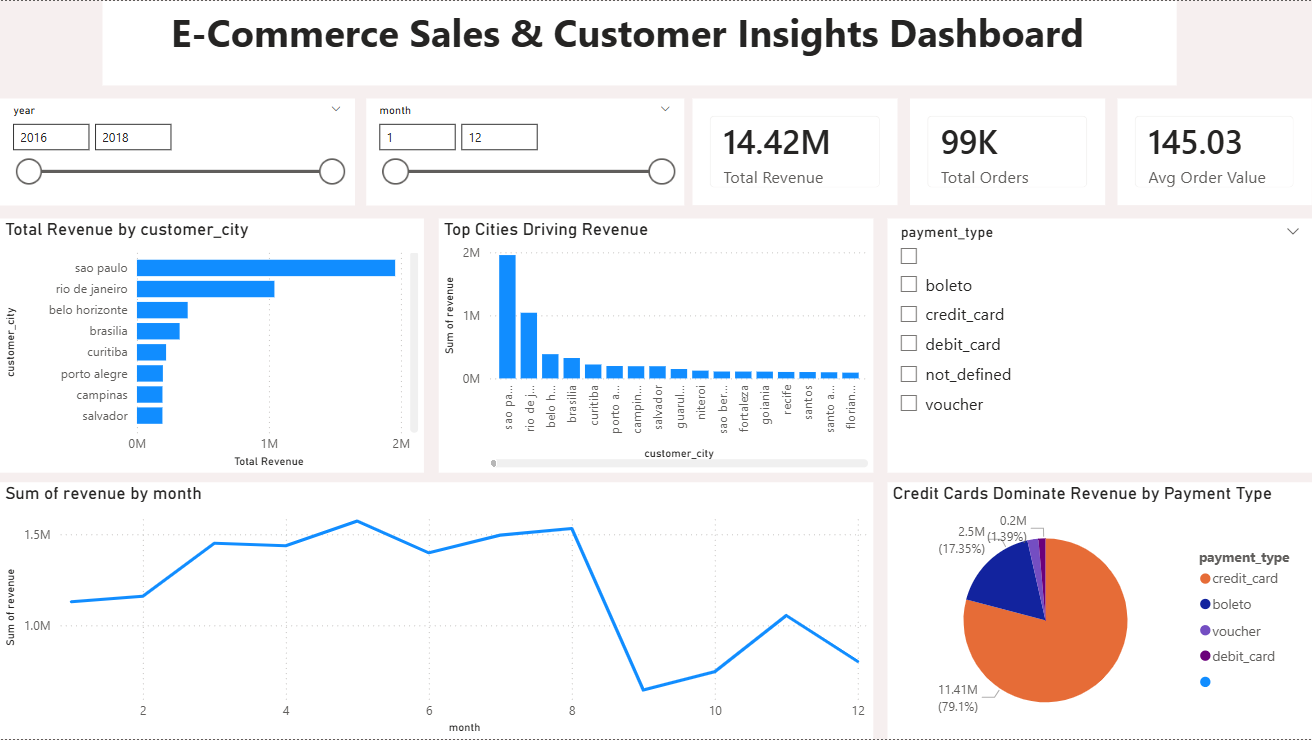

The dashboard page shown, as its layout file describes it:
{"tool":"powerbi","page":{"name":"Page 1","canvas":[1280,720],"ordinal":0},"visuals":[{"type":"cardVisual","fields":{"Data":["final_dataset.Total Orders"]},"box":[888,94.7,190.7,104],"z":0},{"type":"cardVisual","fields":{"Data":["final_dataset.Total Revenue"]},"box":[676,94.7,200,104],"z":1000},{"type":"cardVisual","fields":{"Data":["final_dataset.Avg Order Value"]},"box":[1090.7,94.7,189.3,104],"z":2000},{"type":"lineChart","fields":{"Y":["Sum(final_dataset.revenue)"],"Category":["final_dataset.month"]},"box":[0,469.3,852,250.7],"z":3000},{"type":"barChart","fields":{"Y":["final_dataset.Total Revenue"],"Category":["final_dataset.customer_city"]},"box":[0,212,413.3,248],"z":4000},{"type":"slicer","fields":{"Values":["final_dataset.year"]},"box":[0,94.7,345.3,104],"z":5000},{"type":"slicer","fields":{"Values":["final_dataset.month"]},"box":[357.3,94.7,309.3,104],"z":6000},{"type":"slicer","fields":{"Values":["final_dataset.payment_type"]},"box":[865.3,212,414.7,248],"z":7000},{"type":"pieChart","title":"Credit Cards Dominate Revenue by Payment Type","fields":{"Category":["final_dataset.payment_type"],"Y":["final_dataset.Total Revenue"]},"box":[865.3,469.3,414.7,250.7],"z":8000},{"type":"textbox","box":[100,0,1048,82.7],"z":9000},{"type":"columnChart","title":"Top Cities Driving Revenue","fields":{"Category":["final_dataset.customer_city"],"Y":["Sum(final_dataset.revenue)"]},"box":[428,212,424,248],"z":9001}]}

Visuals, with their boxes in screenshot pixels (x1, y1, x2, y2), scaled from the page's 1280x720 canvas onto the 1312x740 screenshot:
cardVisual - final_dataset.Total Orders: 910 97 1106 204
cardVisual - final_dataset.Total Revenue: 693 97 898 204
cardVisual - final_dataset.Avg Order Value: 1118 97 1311 204
lineChart - Sum(final_dataset.revenue) x final_dataset.month: 0 482 873 739
barChart - final_dataset.Total Revenue x final_dataset.customer_city: 0 218 424 473
slicer - final_dataset.year: 0 97 354 204
slicer - final_dataset.month: 366 97 683 204
slicer - final_dataset.payment_type: 887 218 1311 473
"Credit Cards Dominate Revenue by Payment Type" pieChart: 887 482 1311 739
textbox: 102 0 1177 85
"Top Cities Driving Revenue" columnChart: 439 218 873 473
